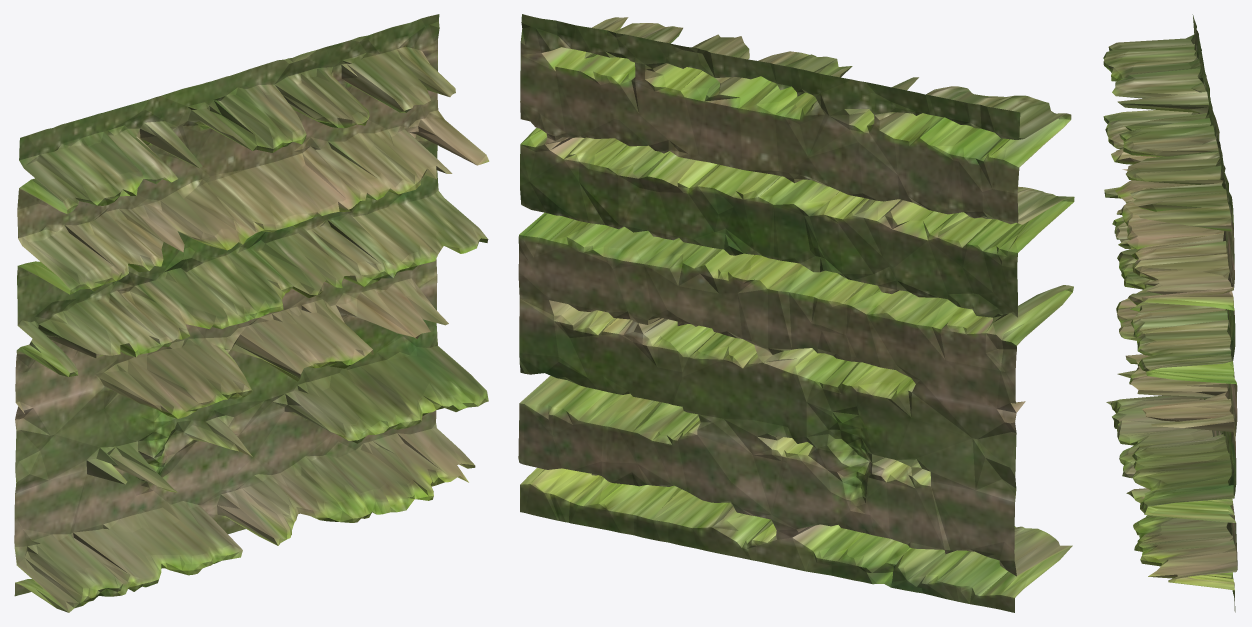
Rendered from map_220_70.obj.
3 renders of one model, left to right at view 1: azimuth 30°, elevation 25°; view 2: azimuth 150°, elevation 25°; view 3: azimuth 270°, elevation 25°, orthographic. The views are drawn at different scales.
Visible parts, largest first — view 1: grp1; view 2: grp1; view 3: grp1.
Boxes of the visible parts, <box> form: grp1: <box>14,14,489,612</box>; grp1: <box>518,14,1074,612</box>; grp1: <box>1103,14,1237,612</box>.
Bounding box in the file's own units: 10 × 10 × 2.99.
1 material, 1 textured.
